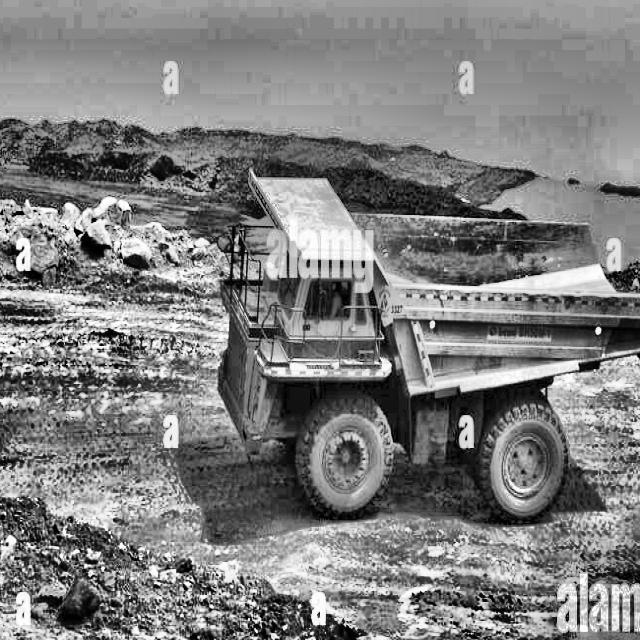dump_truck: (210, 159, 640, 558)
